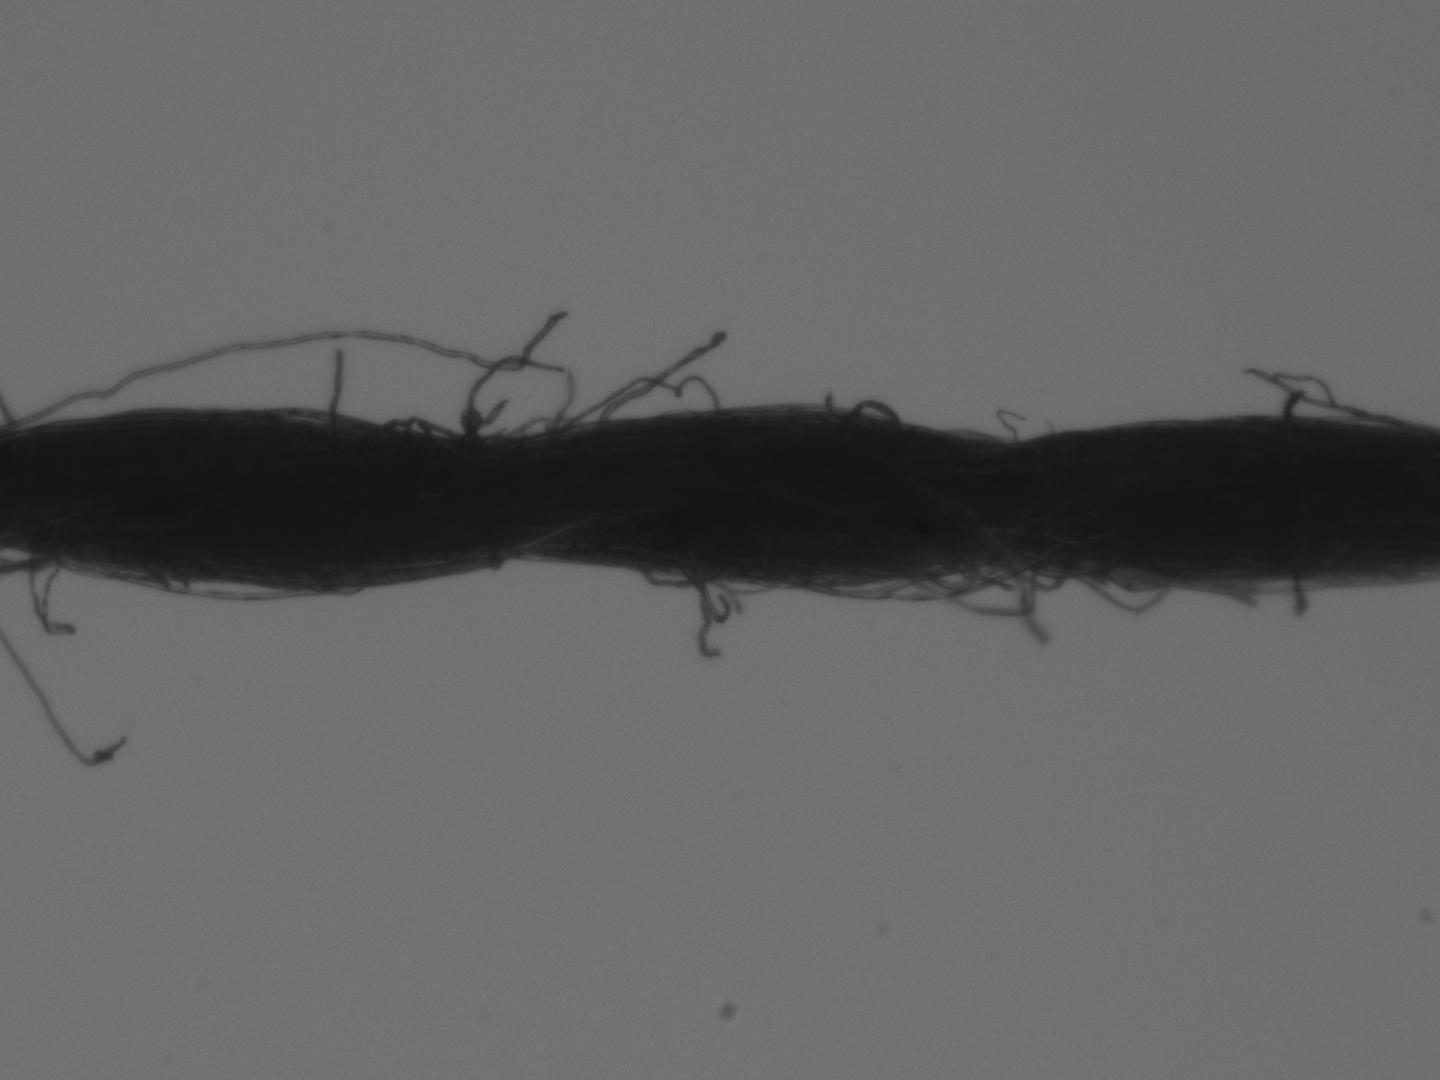loop_fiber: (564, 368, 725, 445), (459, 349, 573, 454), (896, 539, 1043, 618), (808, 560, 1025, 607), (90, 567, 321, 607), (1049, 559, 1174, 615), (20, 535, 81, 639), (829, 391, 905, 440), (634, 562, 714, 591), (705, 572, 780, 600), (373, 416, 455, 437)
protruding_fiber: (324, 338, 349, 446), (1287, 572, 1314, 622)
